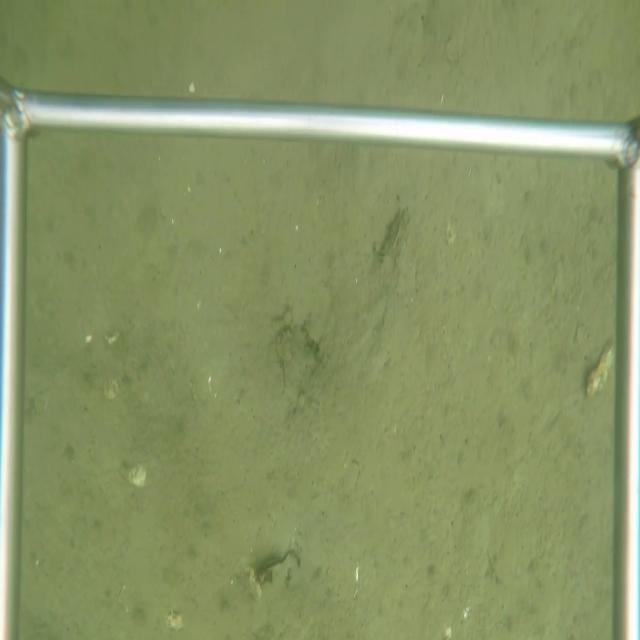Oyster-Closed: (258, 546, 302, 593), (382, 204, 411, 262)
